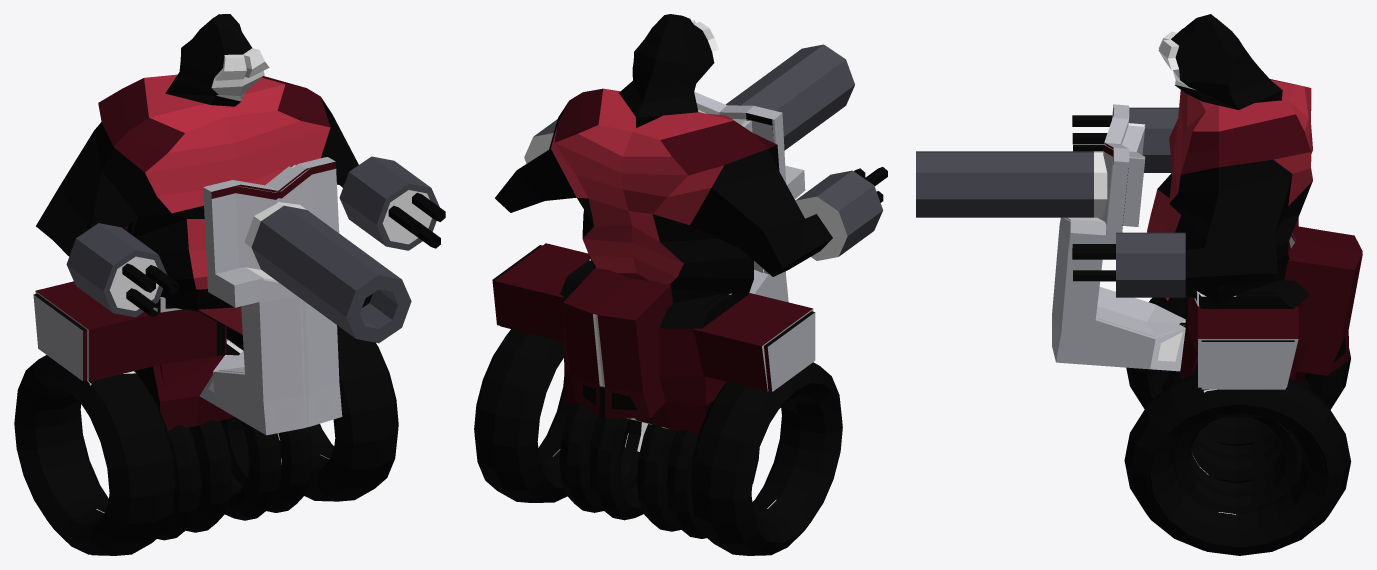
Rendered from бос2.1 (1).fbx.
3 views of the same model, side by side, from view 1: azimuth 30°, elevation 25°; view 2: azimuth 150°, elevation 25°; view 3: azimuth 270°, elevation 25° (orthographic). The views are drawn at different scales.
Parts seen in each view (by area): view 1: Cube; view 2: Cube; view 3: Cube.
Boxes of the visible parts, box(x1,y1,x2,y2) form: Cube: box(14, 14, 445, 555); Cube: box(474, 14, 887, 555); Cube: box(916, 14, 1362, 555).
Bounding box in the file's own units: 206 × 300 × 252.
